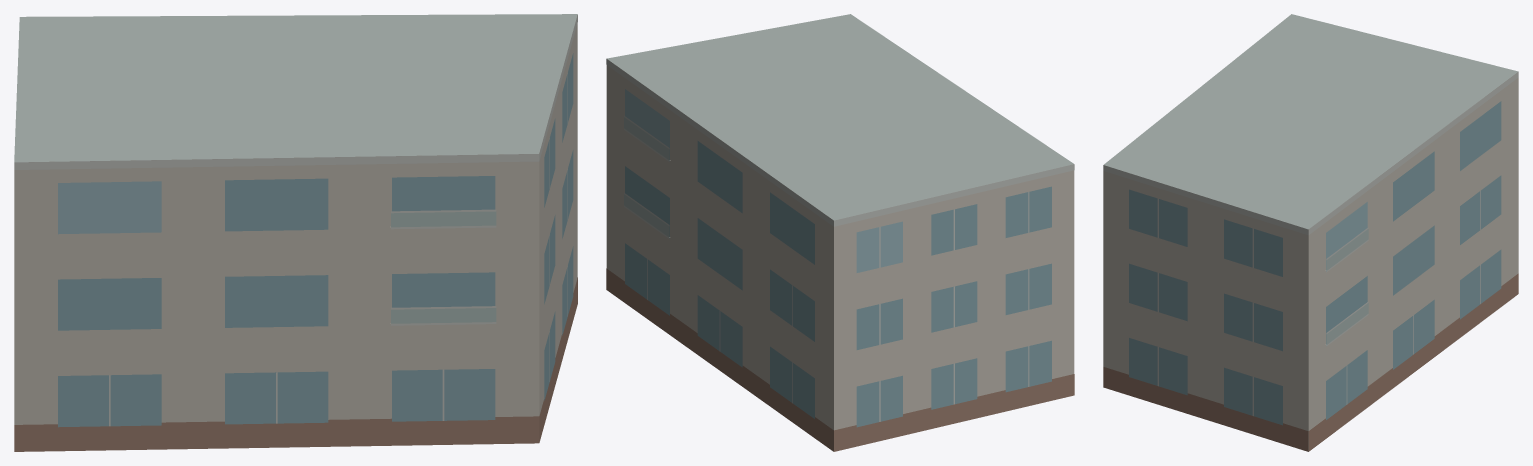
The model's file is survey-upis-32473509.glb.
3 views of the same model, side by side, from view 1: azimuth 30°, elevation 25°; view 2: azimuth 150°, elevation 25°; view 3: azimuth 270°, elevation 25° (orthographic). The views are drawn at different scales.
Parts seen in each view (by area): view 1: survey-upis-32473509.tmp; view 2: survey-upis-32473509.tmp; view 3: survey-upis-32473509.tmp.
Part boxes in pixels (x1=…): survey-upis-32473509.tmp: x1=14, y1=14, x2=577, y2=451; survey-upis-32473509.tmp: x1=606, y1=14, x2=1074, y2=451; survey-upis-32473509.tmp: x1=1103, y1=14, x2=1518, y2=451.
Bounding box in the file's own units: 19.02 × 9.15 × 15.49.
